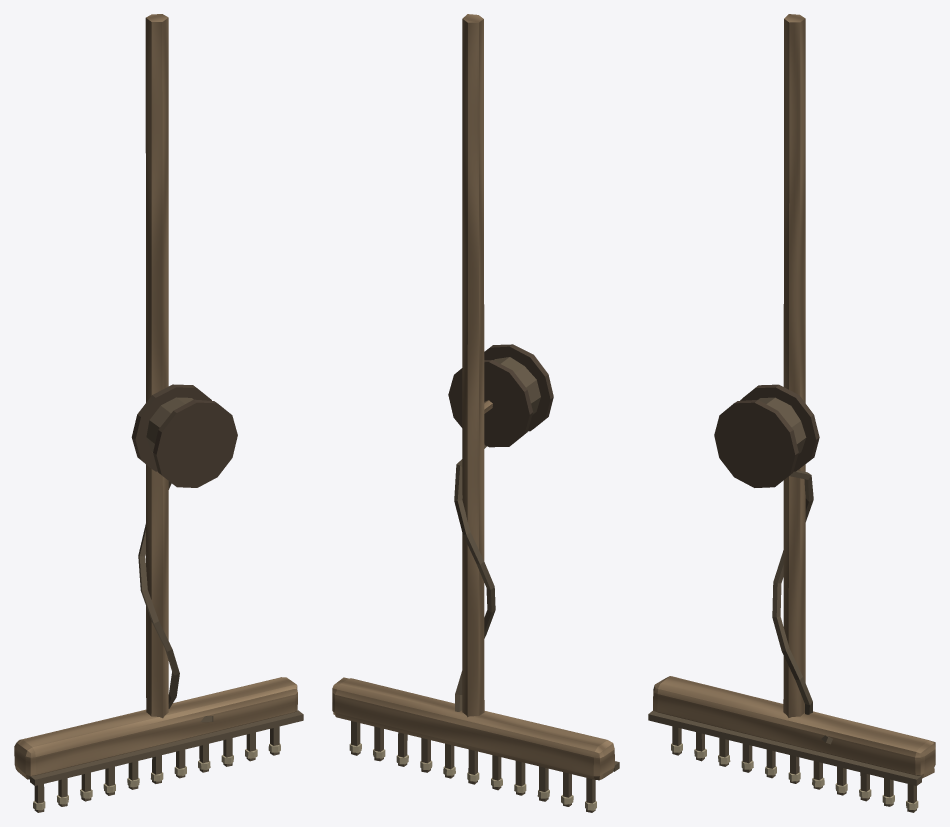
The model's file is thread_rake.glb.
The picture shows the model from 3 angles, left to right: view 1: azimuth 30°, elevation 25°; view 2: azimuth 150°, elevation 25°; view 3: azimuth 330°, elevation 25°; orthographic projection.
Visible parts, largest first — view 1: ThreadRake; view 2: ThreadRake; view 3: ThreadRake.
Part boxes in pixels (<box>): ThreadRake: <box>14,14,303,812</box>; ThreadRake: <box>332,14,619,812</box>; ThreadRake: <box>648,14,935,812</box>.
Size of the model in its own units: 0.5054 by 1.36 by 0.159.
Materials: 4 (3 with a texture image).
